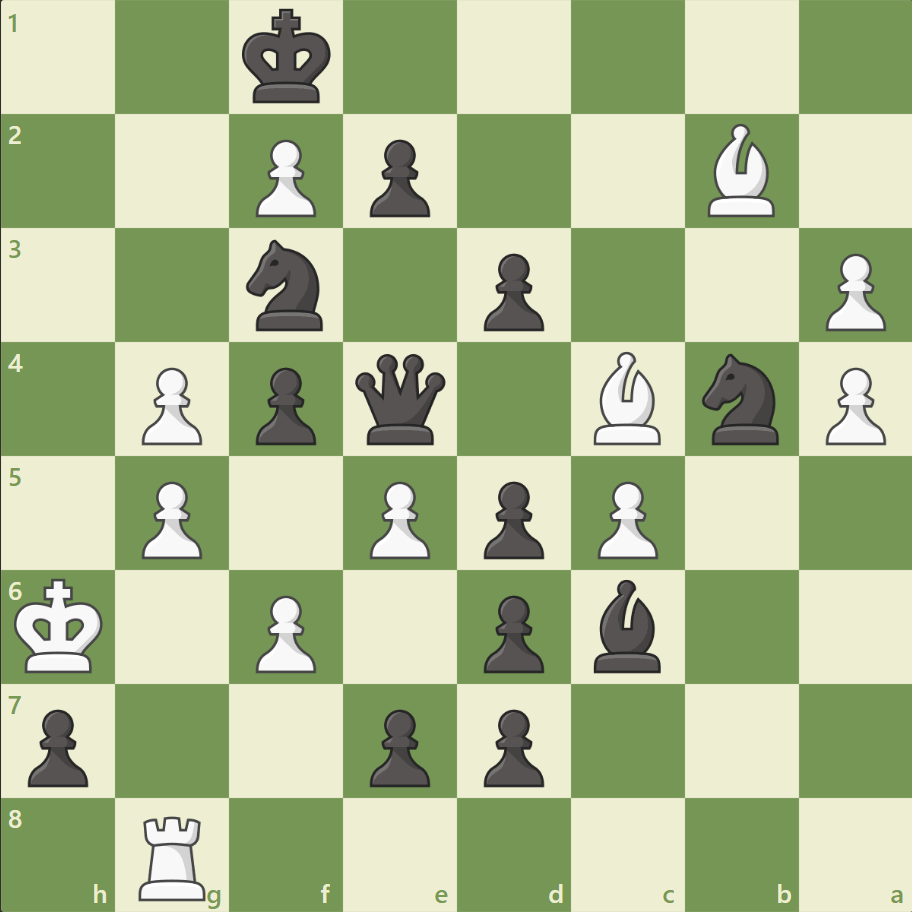B: (585, 347, 669, 449), (698, 120, 782, 222)
K: (11, 571, 111, 679)
P: (247, 586, 322, 677), (133, 473, 208, 564), (133, 359, 208, 450), (247, 132, 322, 223), (588, 473, 662, 564), (361, 473, 435, 564), (815, 359, 889, 450), (815, 246, 889, 337)
R: (133, 806, 215, 904)
b: (585, 574, 669, 676)
k: (238, 4, 338, 112)
n: (238, 234, 335, 337), (692, 348, 789, 450)
p: (474, 700, 549, 791), (20, 700, 95, 791), (474, 586, 549, 677), (474, 473, 549, 564), (247, 359, 322, 450), (474, 246, 549, 337), (361, 700, 435, 791), (361, 132, 435, 223)
q: (351, 349, 450, 449)
